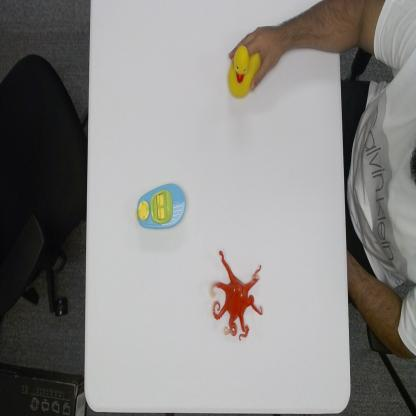Arm: (290, 0, 410, 59)
Boat: (135, 182, 187, 232)
Duck: (227, 42, 259, 100)
Hand: (227, 26, 287, 91)
Octopus: (209, 249, 264, 340)
